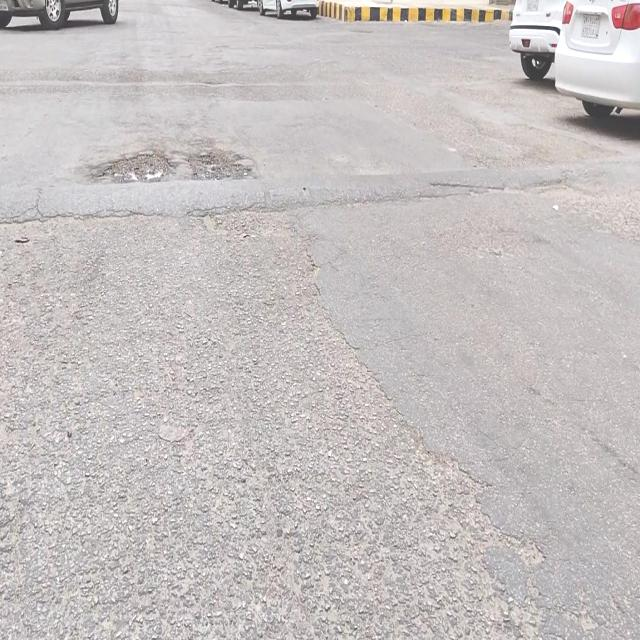Potholes: (96, 145, 172, 181), (183, 143, 251, 176)
